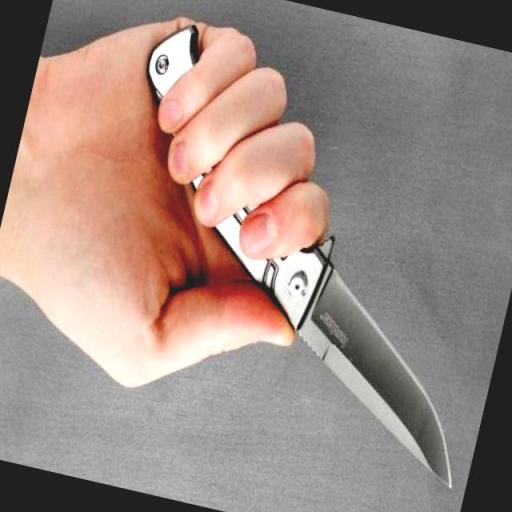knife: (57, 6, 512, 497)
